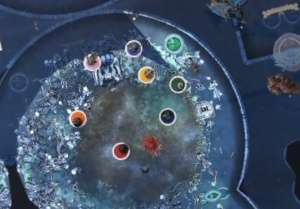blue: (152, 105, 177, 129)
green: (164, 71, 189, 94)
orange: (65, 106, 90, 131)
pink: (80, 47, 103, 72)
red: (107, 137, 134, 165)
violet: (118, 35, 144, 61)
yellow: (133, 60, 158, 87)
